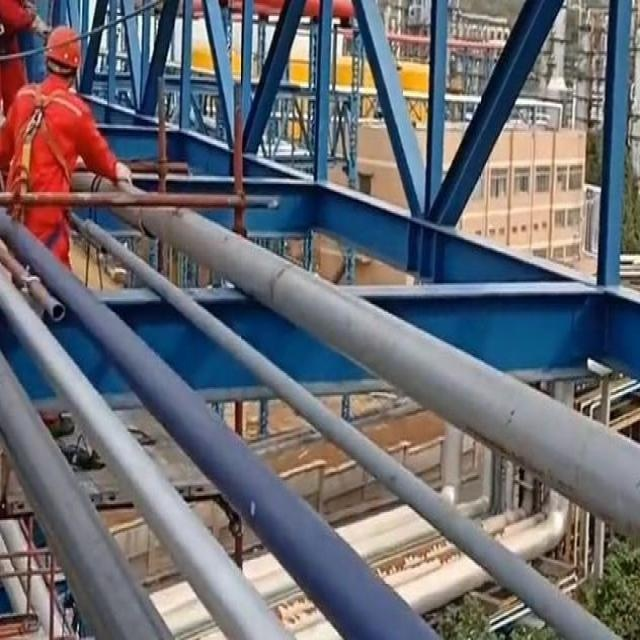Arnes_seguridad: (6, 74, 78, 187)
